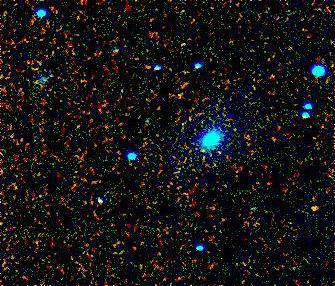star: (304, 193, 334, 223)
